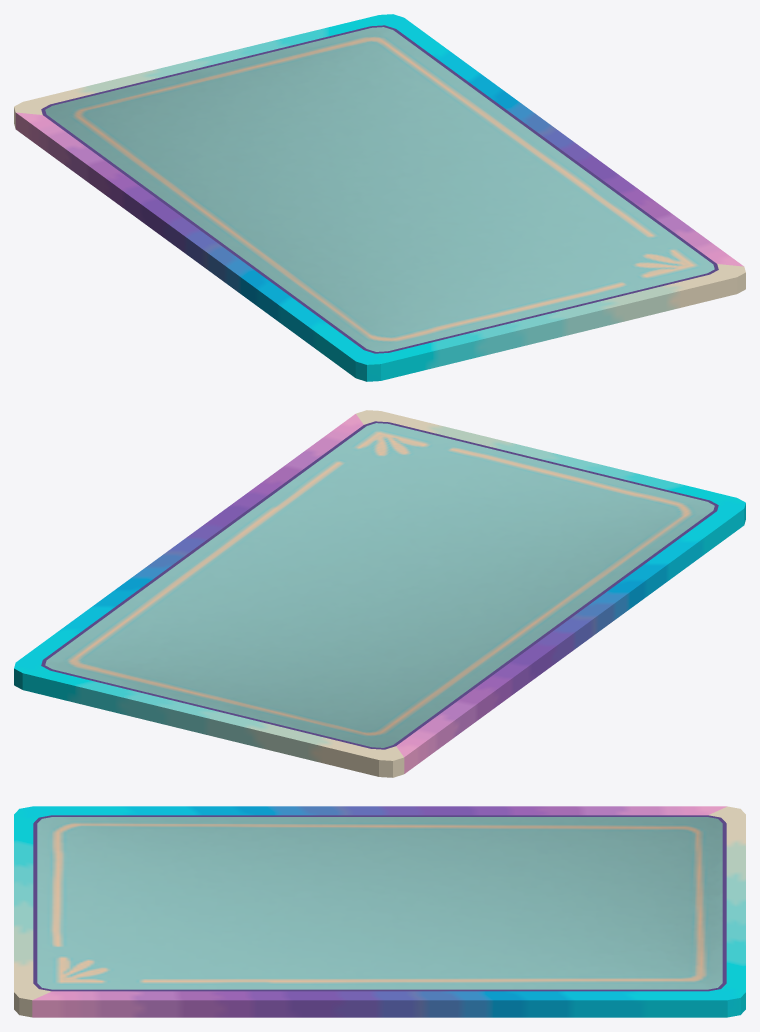
The model's file is Structure_Vapor_Floor_02_Art.fbx.
The picture shows the model from 3 angles, top to bottom: view 1: azimuth 30°, elevation 25°; view 2: azimuth 150°, elevation 25°; view 3: azimuth 270°, elevation 25°; orthographic projection. The views are drawn at different scales.
Visible parts, largest first — view 1: Structure_Vapor_Floor_02_Art; view 2: Structure_Vapor_Floor_02_Art; view 3: Structure_Vapor_Floor_02_Art.
Boxes of the visible parts, x1,y1,x2,y2 form: Structure_Vapor_Floor_02_Art: (14, 14, 745, 381); Structure_Vapor_Floor_02_Art: (14, 410, 745, 777); Structure_Vapor_Floor_02_Art: (14, 806, 745, 1017).
Size of what is drawn, in the model's own units: 2.45 by 0.1018 by 3.9.
